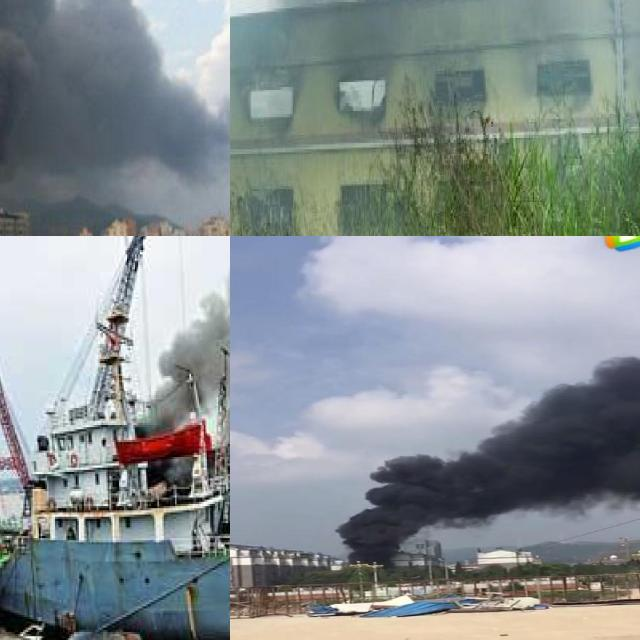smoke: (338, 308, 640, 558), (0, 0, 230, 220)
